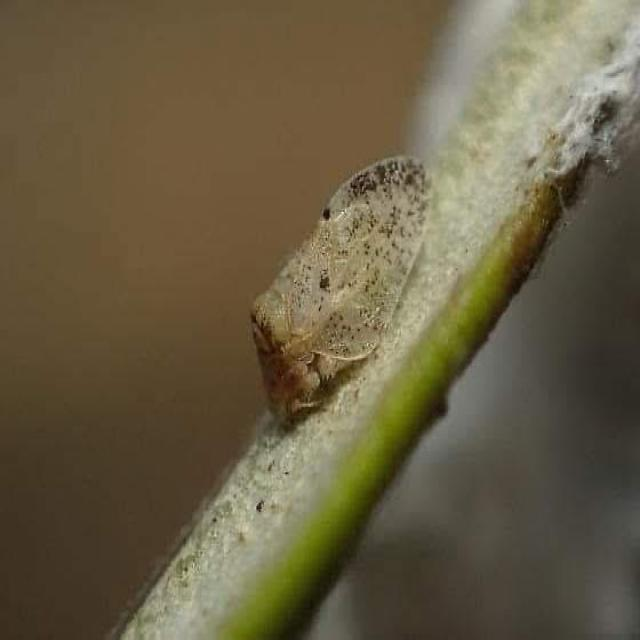Psyllid: (253, 155, 430, 436)
